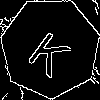K: (25, 23, 78, 79)
